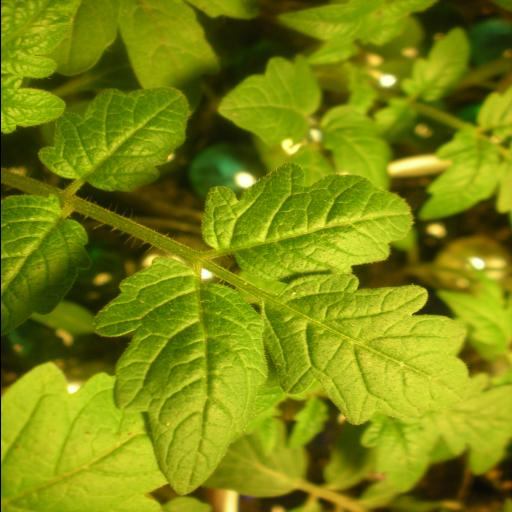Healthy: (96, 253, 269, 497), (251, 276, 473, 424), (201, 163, 419, 288), (40, 76, 190, 206)
